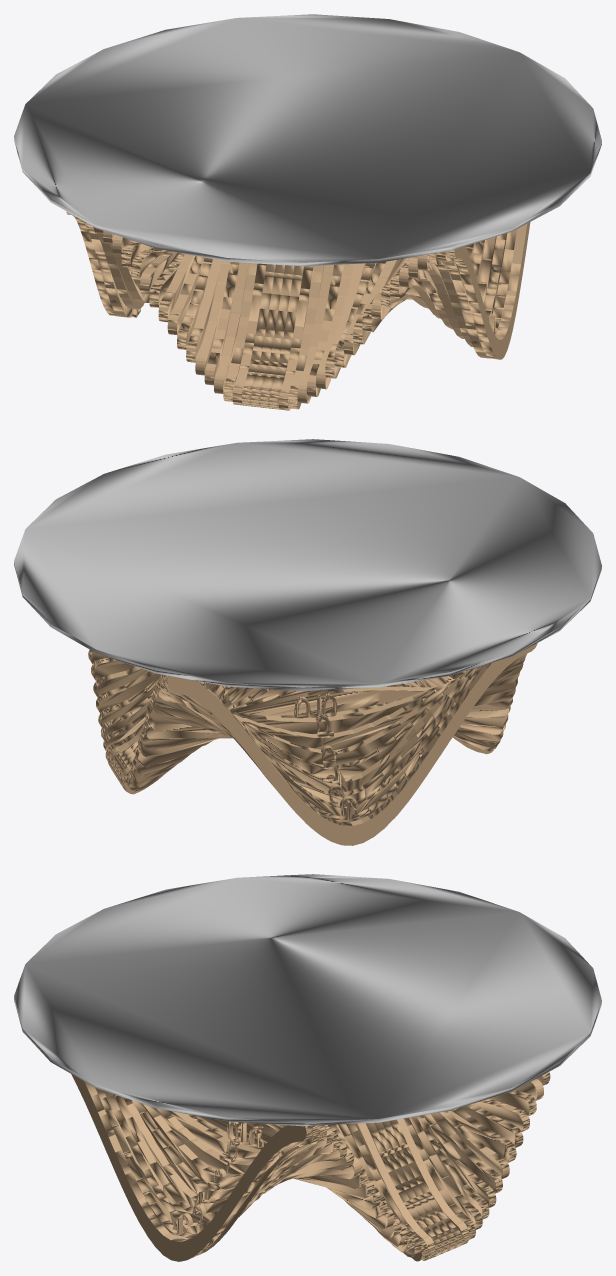
3 renders of one model, top to bottom at view 1: azimuth 30°, elevation 25°; view 2: azimuth 150°, elevation 25°; view 3: azimuth 270°, elevation 25°, orthographic.
Visible parts, largest first — view 1: Group2, Group4, Group9, Group23, Group18, Group11, Group21, Group33, Group7, Group32, Group43, Group24 (+23 smaller); view 2: Group2, Group27, Group31, Group44, Group45, Group30, Group39, Group38, Group42, Group36, Group25, Group37 (+11 smaller); view 3: Group2, Group4, Group9, Group18, Group19, Group17, Group23, Group22, Group5, Group20, Group11, Group33 (+18 smaller).
Boxes of the visible parts, box(x1,y1,x2,y2) form: Group2: box(14, 14, 601, 266); Group4: box(445, 222, 530, 359); Group9: box(436, 229, 516, 358); Group23: box(427, 233, 507, 346); Group18: box(417, 236, 496, 338); Group11: box(278, 266, 314, 410); Group21: box(269, 266, 303, 409); Group33: box(214, 262, 248, 393); Group7: box(260, 265, 294, 408); Group32: box(251, 264, 284, 407); Group43: box(242, 264, 275, 406); Group24: box(288, 265, 324, 409); Group2: box(14, 439, 601, 691); Group27: box(165, 643, 537, 845); Group31: box(140, 686, 512, 749); Group44: box(150, 663, 523, 765); Group45: box(145, 678, 517, 735); Group30: box(147, 672, 519, 749); Group39: box(153, 657, 525, 779); Group38: box(155, 654, 526, 792); Group42: box(160, 666, 480, 815); Group36: box(158, 668, 475, 803); Group25: box(162, 665, 484, 821); Group37: box(143, 688, 515, 740); Group2: box(14, 874, 601, 1126); Group4: box(71, 1074, 313, 1261); Group9: box(95, 1088, 319, 1254); Group18: box(113, 1094, 333, 1222); Group19: box(132, 1100, 346, 1201); Group17: box(142, 1104, 353, 1188); Group23: box(103, 1091, 326, 1234); Group22: box(123, 1097, 340, 1212); Group5: box(155, 1108, 361, 1179); Group20: box(168, 1110, 367, 1188); Group11: box(355, 1123, 435, 1260); Group33: box(409, 1116, 482, 1229).
Bounding box in the file's own units: 1.46 × 0.546 × 1.46.
